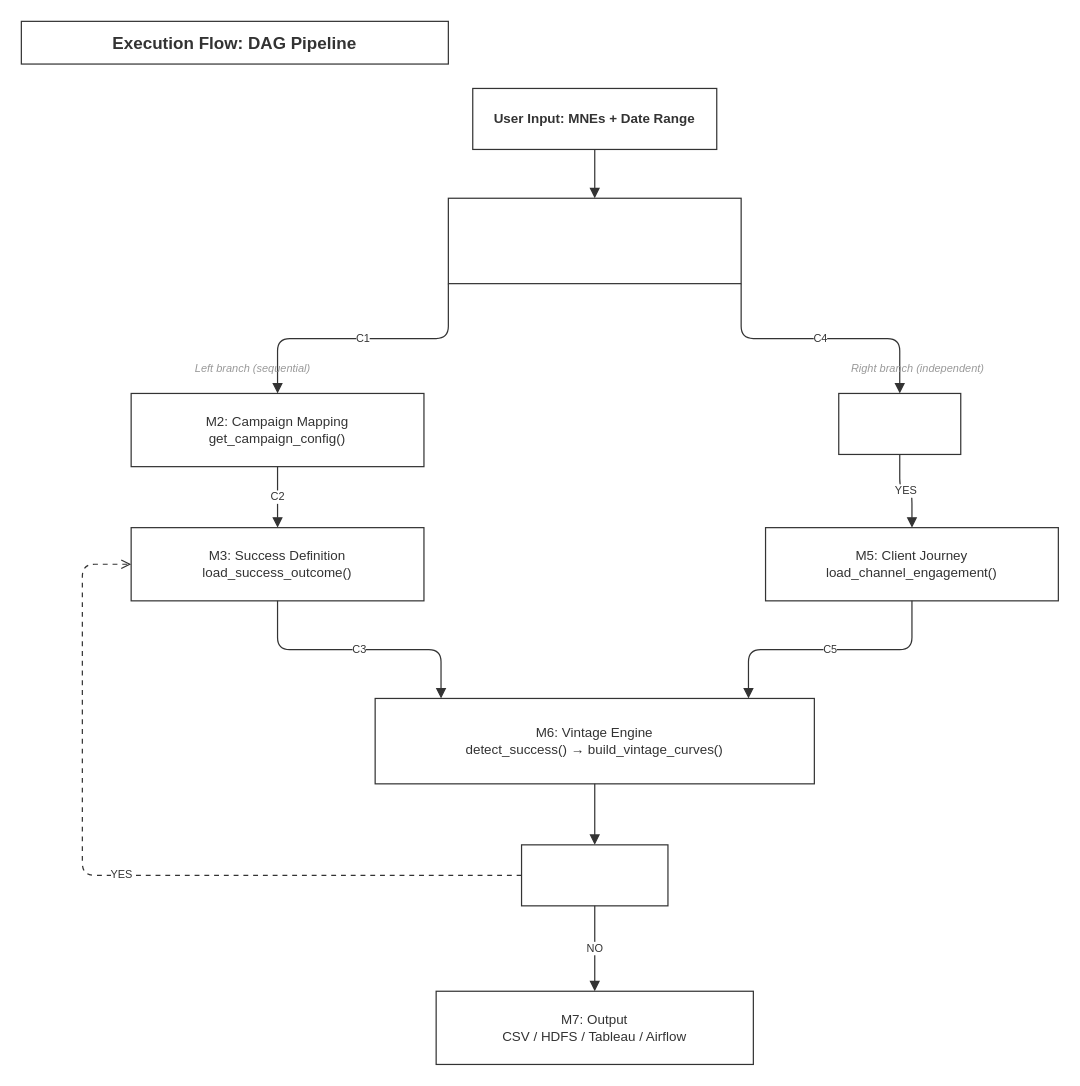
The diagram is 1080 pixels wide and 1086 high, and some of its shapes have lost their labels. The shapes that lost their labels are listed below. From the top down, each one's centre as x and y in pixels, then its label:
point 594,240: M1: Experiment Metadata load_tactic()
point 899,423: Email?
point 594,875: Secondary?
